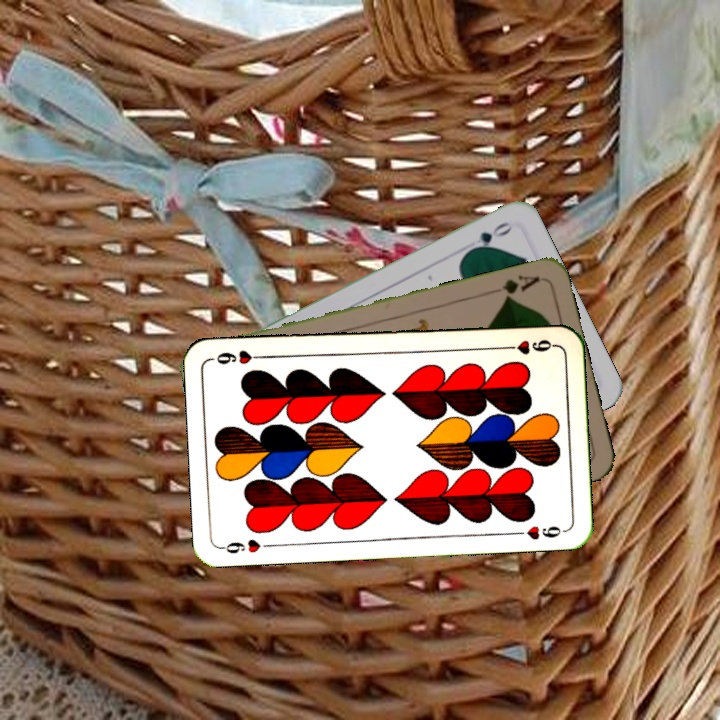GA: (485, 271, 543, 303)
GO: (463, 217, 516, 256)
H9: (498, 335, 557, 357), (218, 535, 277, 557)
